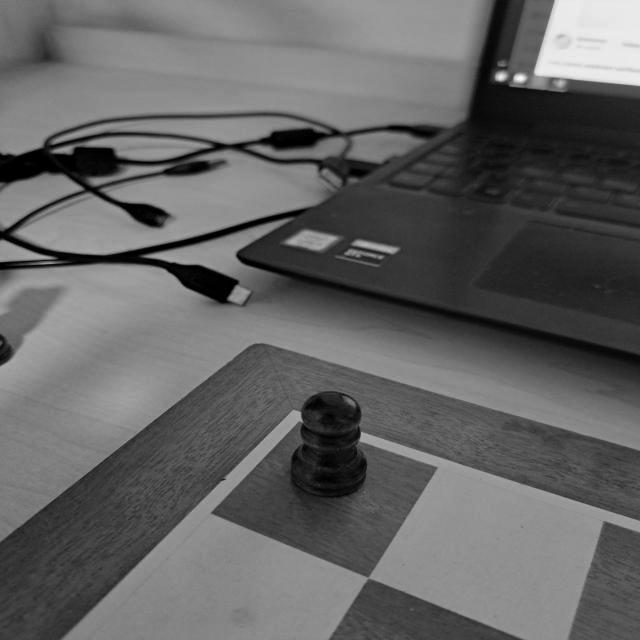chess-table-corners: (254, 391, 345, 454)
